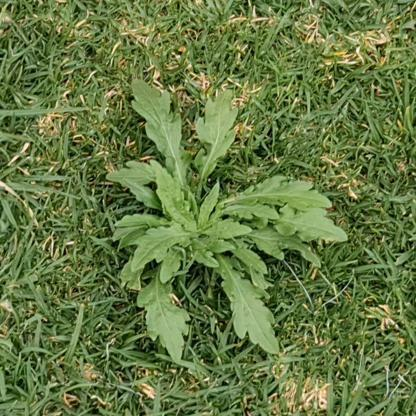Weeds: (101, 77, 348, 369)
